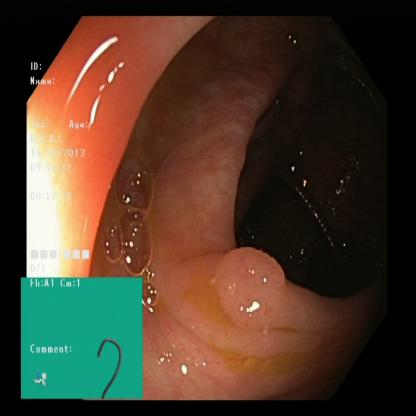Labels: (24, 52, 106, 274), (21, 278, 142, 399)
Polyps: (207, 235, 293, 341)
